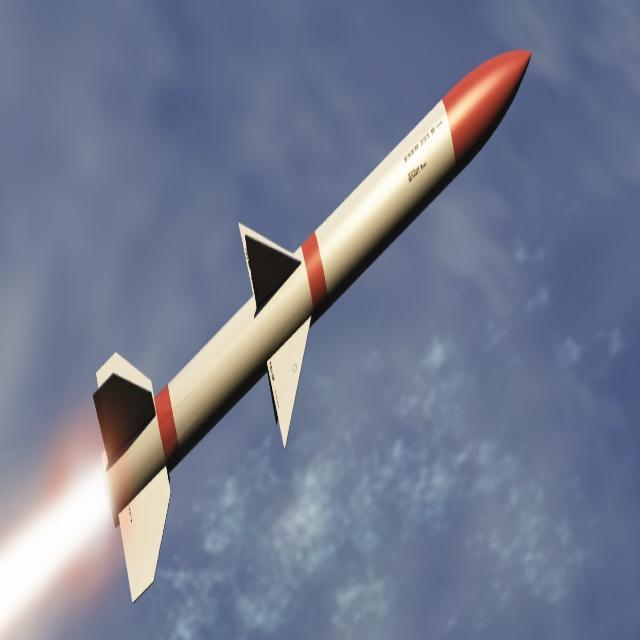missile: (112, 22, 549, 576)
